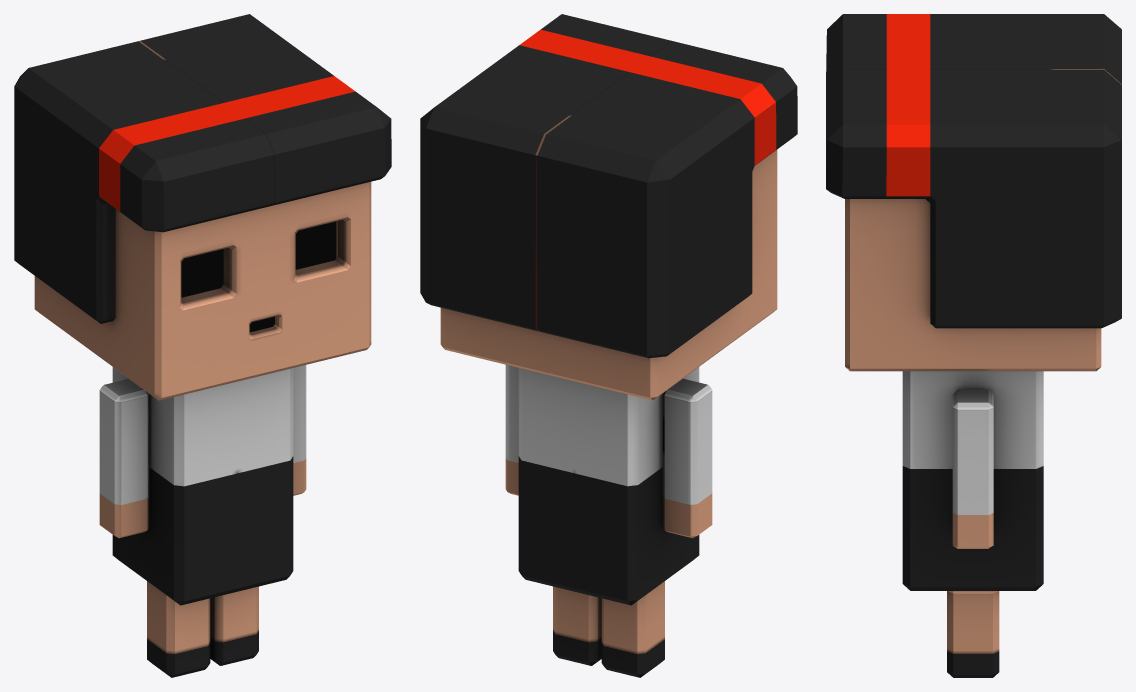
File: Girl.FBX
The picture shows the model from 3 angles, left to right: view 1: azimuth 30°, elevation 25°; view 2: azimuth 150°, elevation 25°; view 3: azimuth 270°, elevation 25°; orthographic projection. The views are drawn at different scales.
Visible parts, largest first — view 1: Girl; view 2: Girl; view 3: Girl.
Boxes of the visible parts, x1,y1,x2,y2 form: Girl: [14, 14, 391, 677]; Girl: [420, 14, 797, 677]; Girl: [826, 14, 1121, 677].
Size of the model in its own units: 5.77 by 12.65 by 5.77.
Materials: 1 (1 with a texture image).
